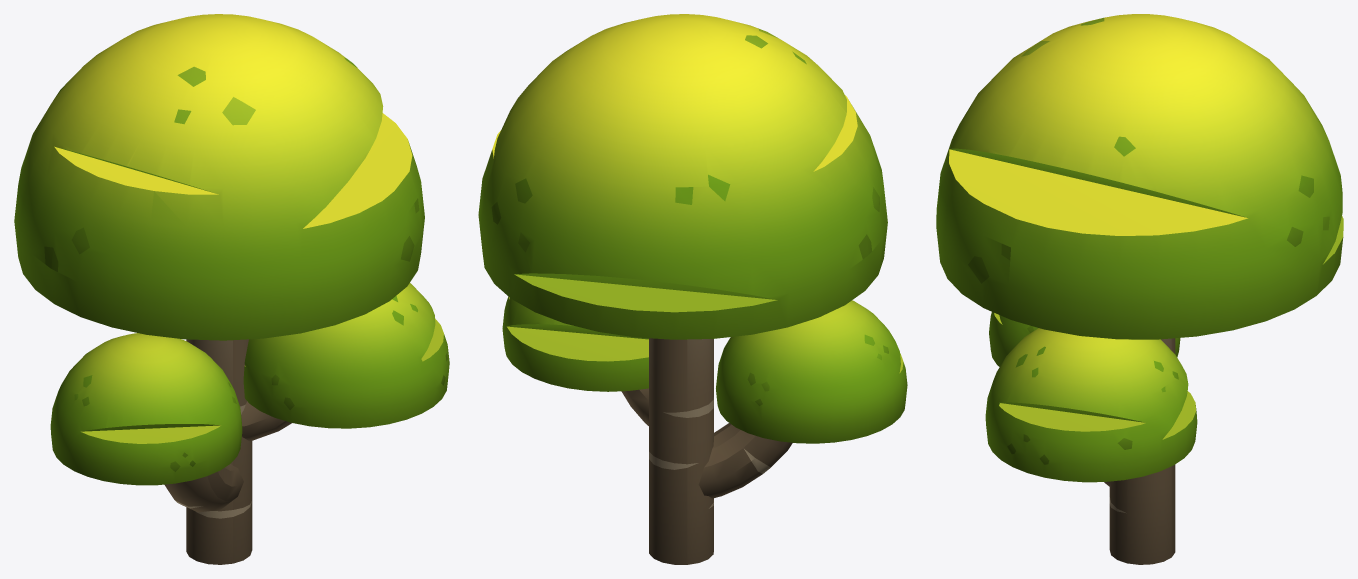
The model's file is garden_tree_1.glb.
The picture shows the model from 3 angles, left to right: view 1: azimuth 30°, elevation 25°; view 2: azimuth 150°, elevation 25°; view 3: azimuth 270°, elevation 25°; orthographic projection.
Parts seen in each view (by area): view 1: garden_tree_1; view 2: garden_tree_1; view 3: garden_tree_1.
Part boxes in pixels (x1=…): garden_tree_1: x1=14, y1=14, x2=449, y2=564; garden_tree_1: x1=478, y1=14, x2=907, y2=564; garden_tree_1: x1=936, y1=14, x2=1343, y2=564.
Bounding box in the file's own units: 3.39 × 4.47 × 3.19.
Materials: 1 (1 with a texture image).
